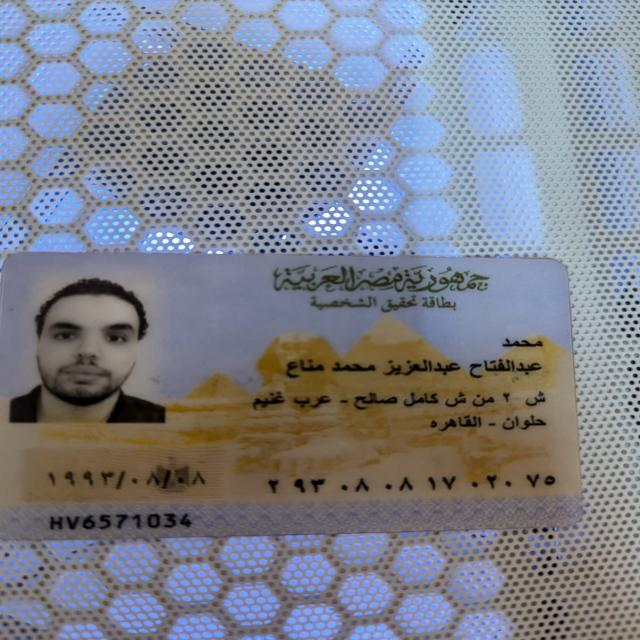id_card: (0, 244, 593, 547)
